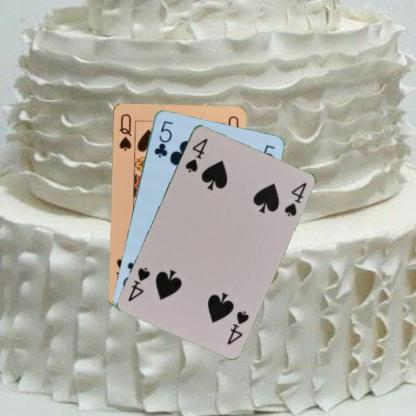4s: (183, 135, 209, 174), (224, 307, 250, 346)
5c: (151, 118, 174, 159)
Qs: (116, 111, 133, 152)
